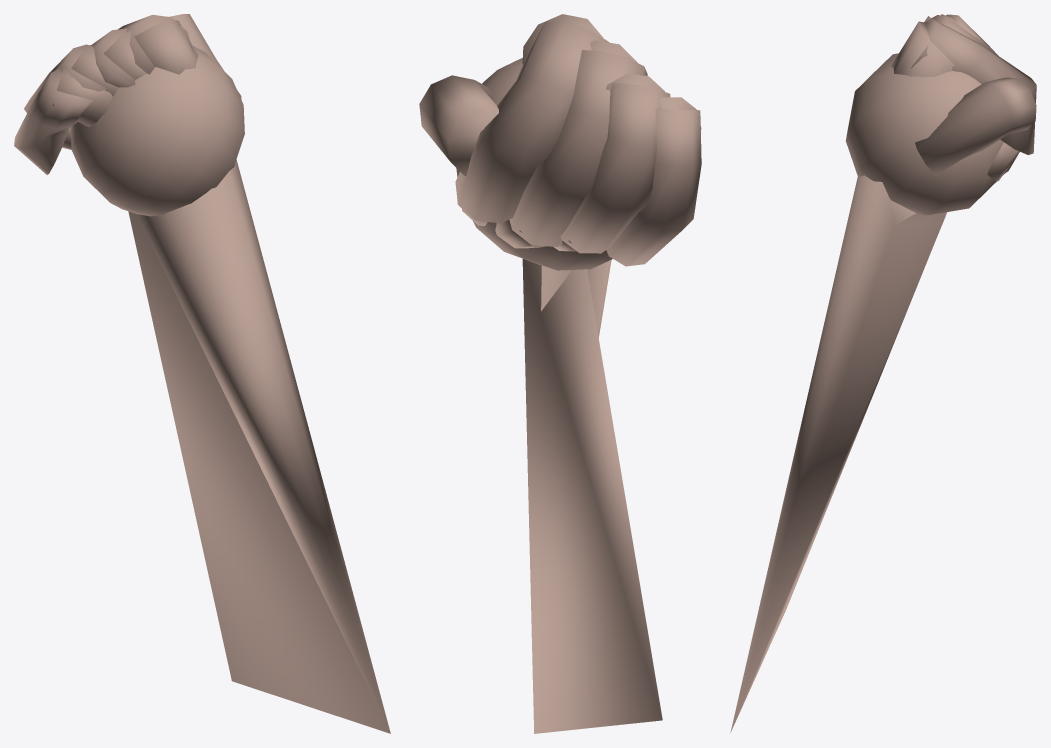
Rendered from rafikilefthand.gltf.
The picture shows the model from 3 angles, left to right: view 1: azimuth 30°, elevation 25°; view 2: azimuth 150°, elevation 25°; view 3: azimuth 270°, elevation 25°; orthographic projection. The views are drawn at different scales.
Visible parts, largest first — view 1: mesh_1728972639; view 2: mesh_1728972639; view 3: mesh_1728972639.
Boxes of the visible parts, x1,y1,x2,y2 form: mesh_1728972639: (14,14,390,733); mesh_1728972639: (419,14,701,733); mesh_1728972639: (730,14,1036,732).
Bounding box in the file's own units: 0.2909 × 0.7554 × 0.3233.
